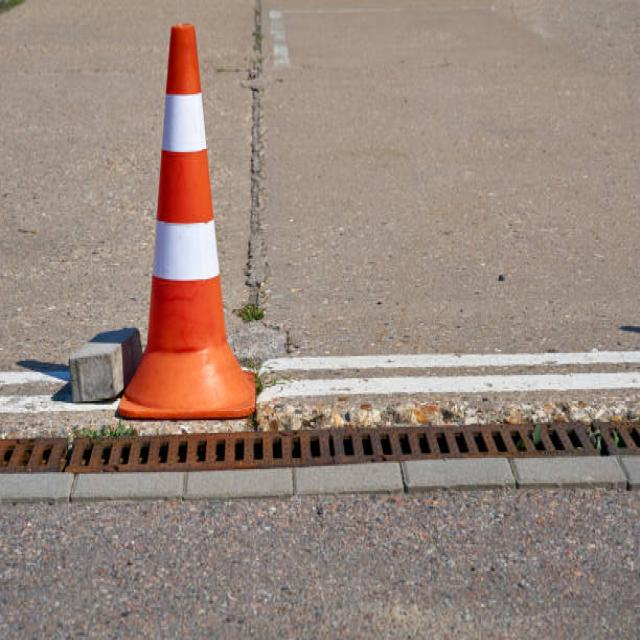Traffic Cone: (89, 0, 284, 448)
